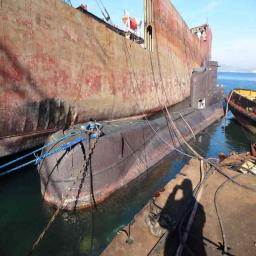submarine: (41, 61, 227, 210)
